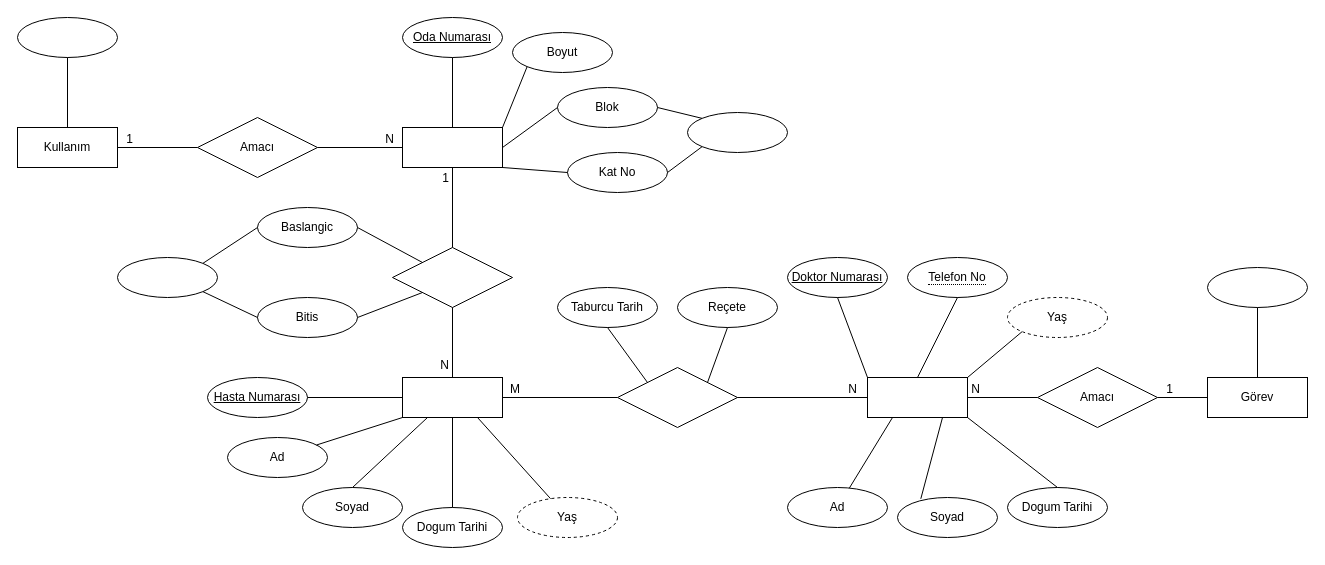
Image size: 1325x565. Some labels were removed from this diagram. Here are the shapes that lost their labels. From the top down, the centre of each, then its label:
point 67,37: Tur Adı
point 452,147: Oda
point 737,132: Adres
point 167,277: Süre
point 452,277: Kaldığı
point 1257,287: Görev Adı
point 452,397: hasta
point 677,397: Tedavi
point 917,397: doktor
